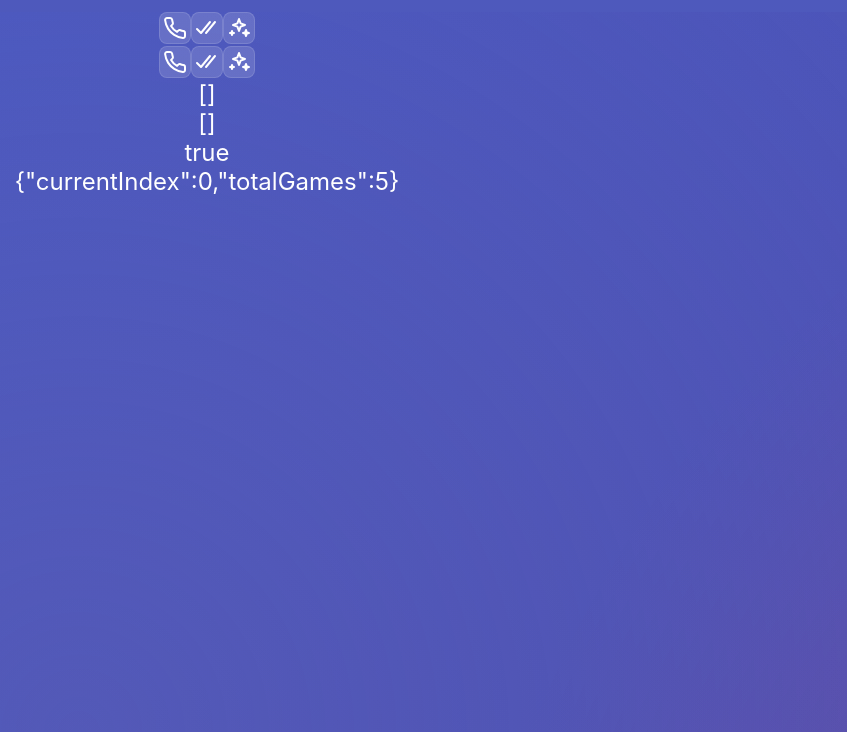
Test: TeamJokers › clicking an available joker marks it used for the clicked team only
The width and height of the screenshot is (847, 732).
Check: the text with test id "settings-loaded" reads "true", box [184,138,230,167]
Click the 1st button named "Telefonjoker — Team ruft eine Person an. Antwortet sie nicht" at [175, 28], box [159,12,191,44]
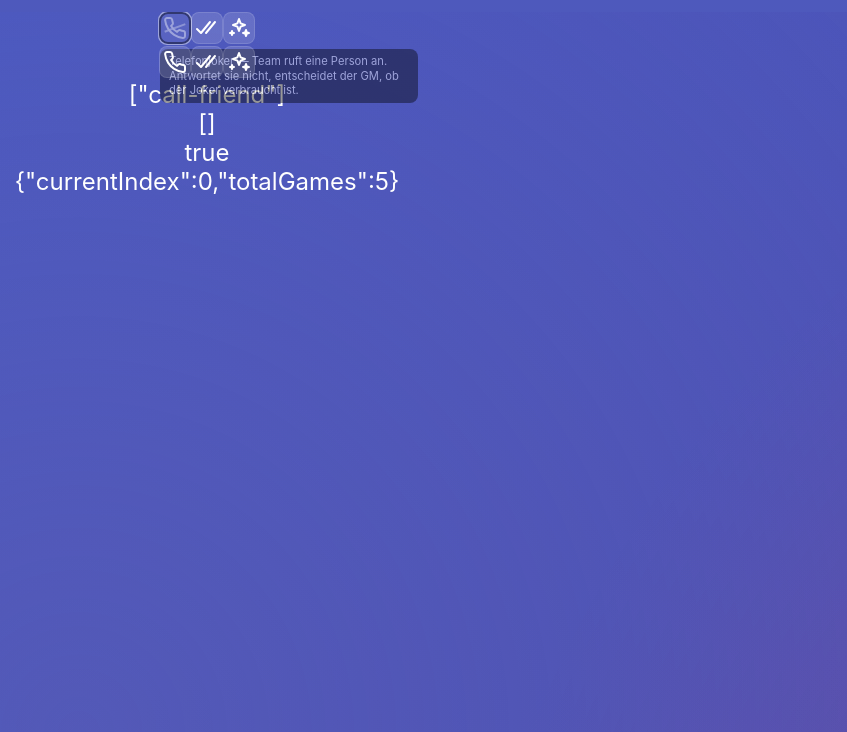
Check: the text with test id "t2" reads "[]", box [198,109,216,138]
Check: the text with test id "t1" reads "[\"call-friend\"]", box [129,80,285,109]
